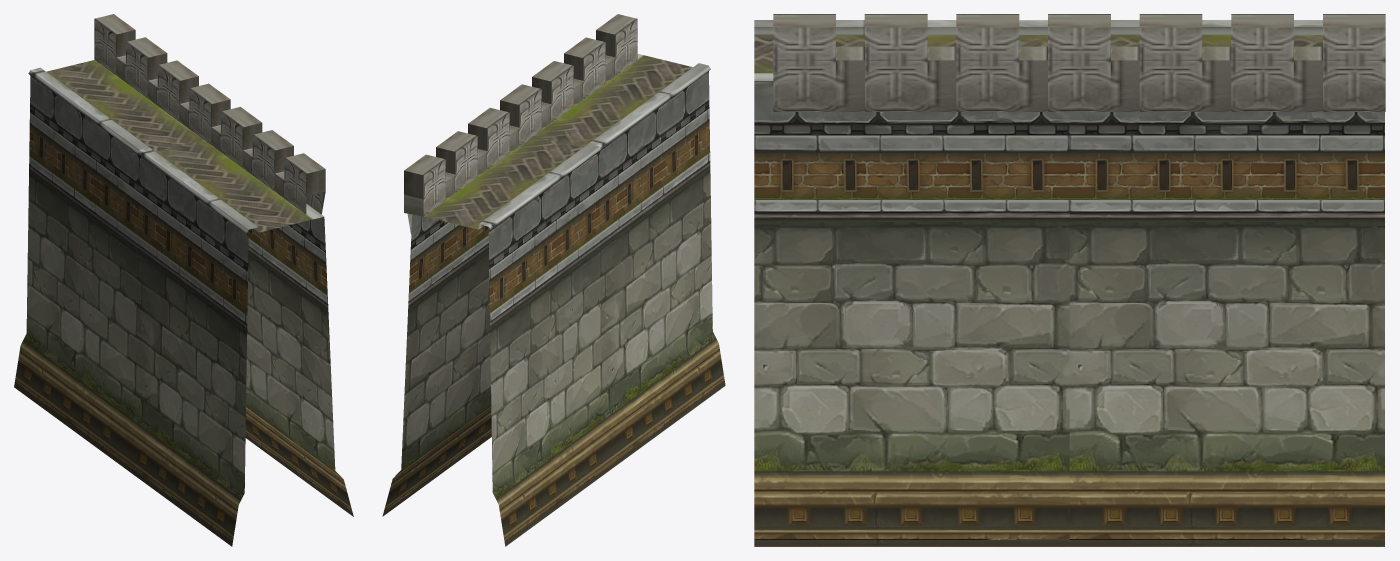
The model's file is DN_mcwall07.FBX.
The picture shows the model from 3 angles, left to right: view 1: azimuth 30°, elevation 25°; view 2: azimuth 150°, elevation 25°; view 3: azimuth 270°, elevation 25°; orthographic projection. The views are drawn at different scales.
Parts seen in each view (by area): view 1: DN_mcwall07; view 2: DN_mcwall07; view 3: DN_mcwall07.
Part boxes in pixels (x1,y1,x2,y2): DN_mcwall07: [14, 14, 353, 546]; DN_mcwall07: [382, 14, 725, 546]; DN_mcwall07: [754, 14, 1385, 546].
Bounding box in the file's own units: 481 × 1315 × 1493.
